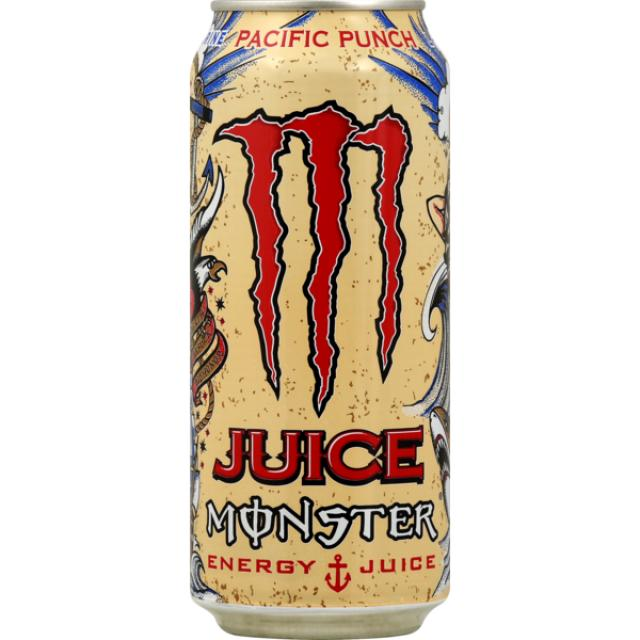Cans: (182, 0, 462, 640)
